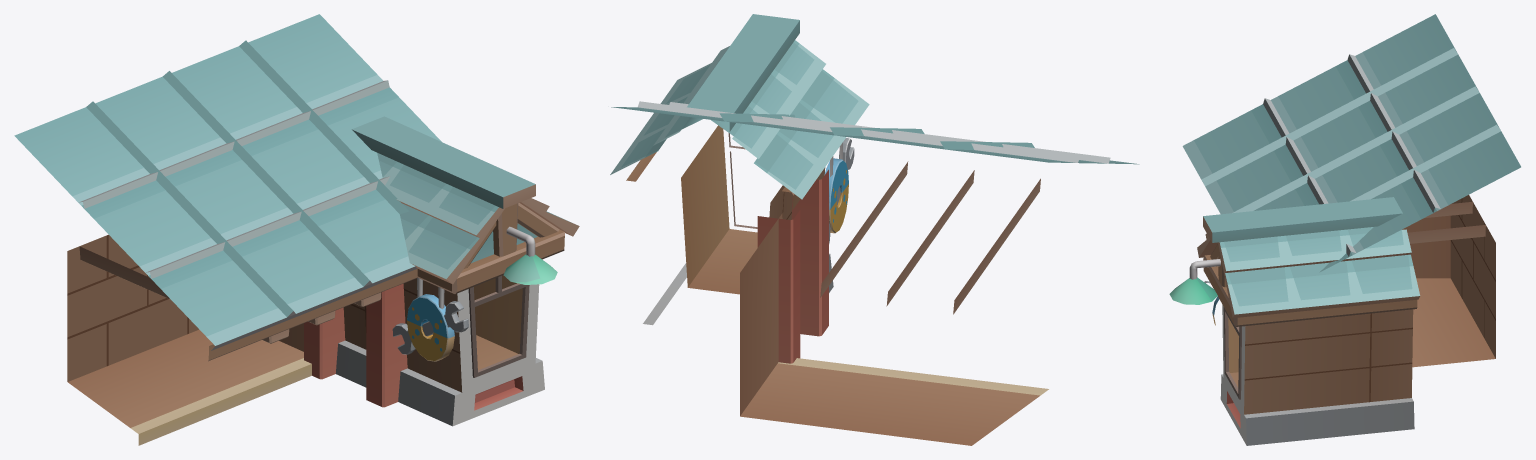
Rendered from TubeShop_0.glb.
3 views of the same model, side by side, from view 1: azimuth 30°, elevation 25°; view 2: azimuth 150°, elevation 25°; view 3: azimuth 270°, elevation 25° (orthographic). The views are drawn at different scales.
Parts seen in each view (by area): view 1: TubeShop; view 2: TubeShop; view 3: TubeShop.
Part boxes in pixels (x1,y1,x2,y2): TubeShop: (14, 14, 579, 445); TubeShop: (610, 14, 1139, 445); TubeShop: (1169, 14, 1520, 445).
Bounding box in the file's own units: 6.14 × 3.69 × 4.66.
